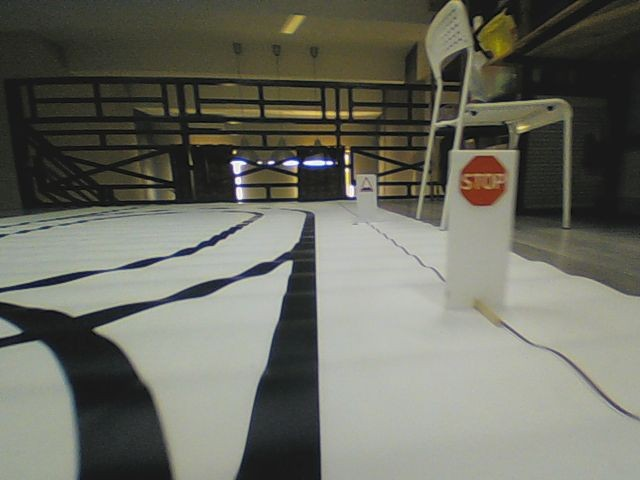Nerov: (359, 176, 374, 193)
Stop: (458, 155, 507, 207)
